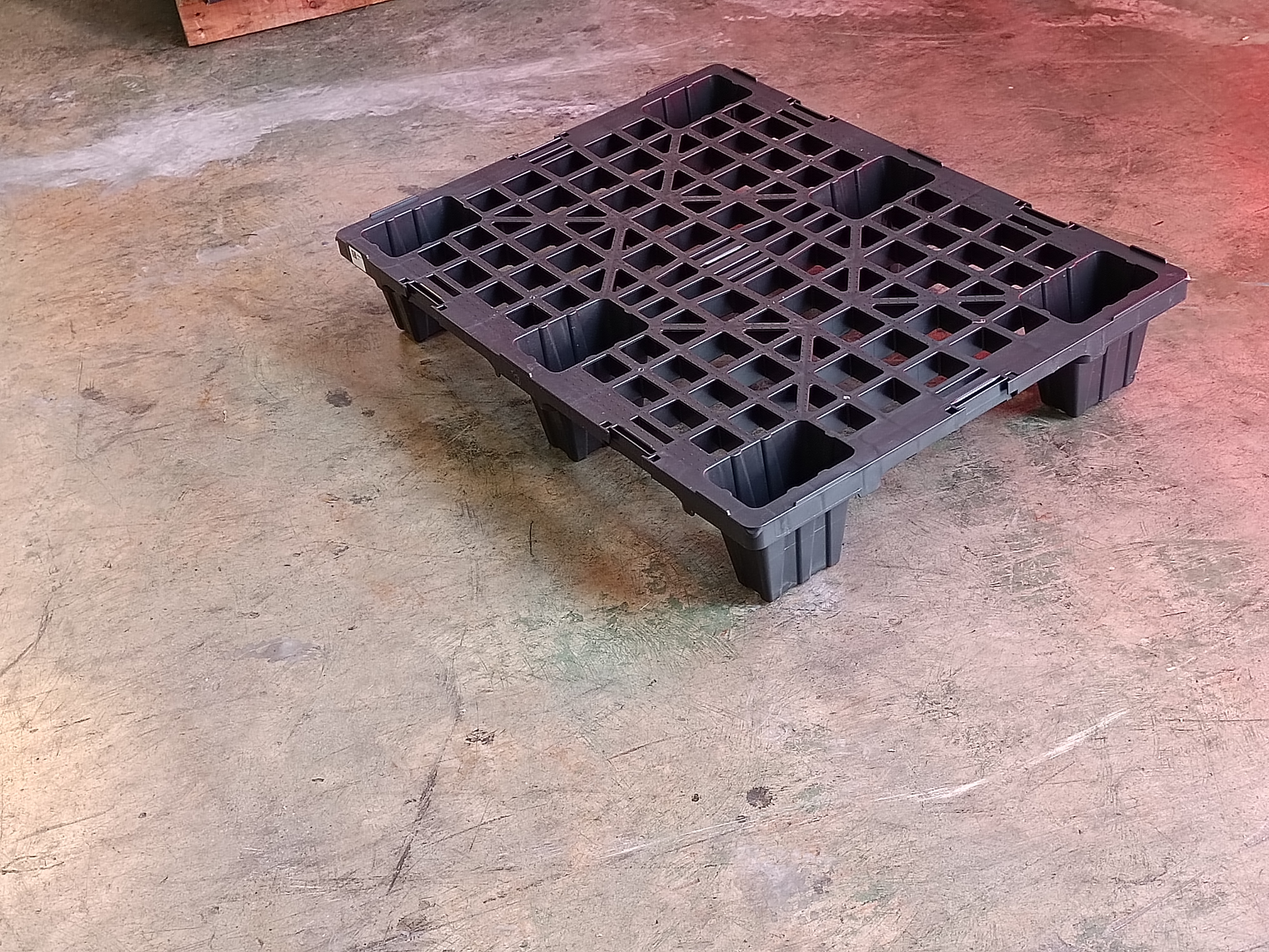block: (720, 471, 855, 603), (1079, 284, 1167, 412), (336, 241, 443, 345), (536, 372, 607, 462)
front: (341, 238, 761, 602)
hole pallet: (561, 409, 733, 586), (416, 301, 547, 448)
